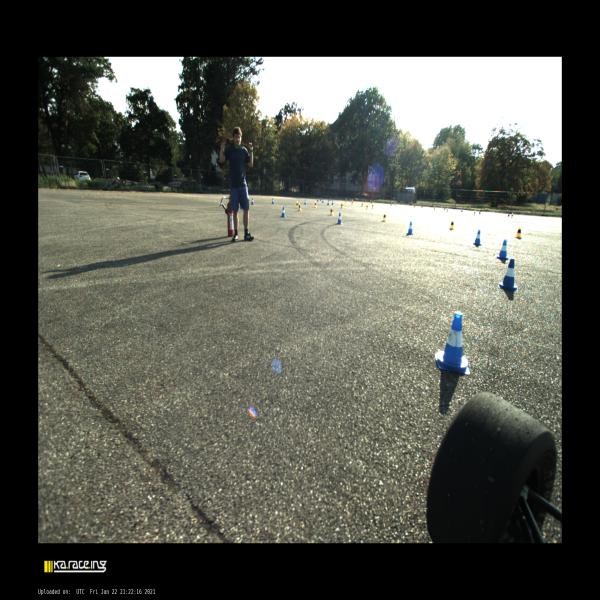blue_cone: (435, 312, 469, 373), (498, 258, 517, 290), (497, 239, 509, 259), (473, 230, 482, 245), (406, 220, 413, 234), (336, 212, 343, 225), (280, 207, 286, 217), (251, 198, 254, 204), (326, 200, 329, 205), (331, 200, 334, 205), (478, 209, 481, 214), (272, 198, 274, 204), (304, 199, 306, 204), (508, 212, 510, 217), (322, 198, 324, 202), (317, 198, 319, 202), (394, 202, 396, 206), (460, 208, 462, 212)
yellow_cone: (514, 226, 522, 238), (449, 220, 454, 229), (329, 207, 334, 215), (297, 203, 302, 211), (382, 213, 386, 222), (314, 201, 317, 208), (340, 202, 343, 209), (361, 202, 364, 207), (296, 201, 298, 208), (366, 204, 368, 210), (371, 204, 374, 208), (446, 208, 449, 212), (413, 204, 416, 208), (352, 200, 354, 205), (511, 213, 513, 218), (474, 211, 476, 215), (390, 202, 392, 206), (345, 200, 347, 203), (434, 206, 435, 210)
